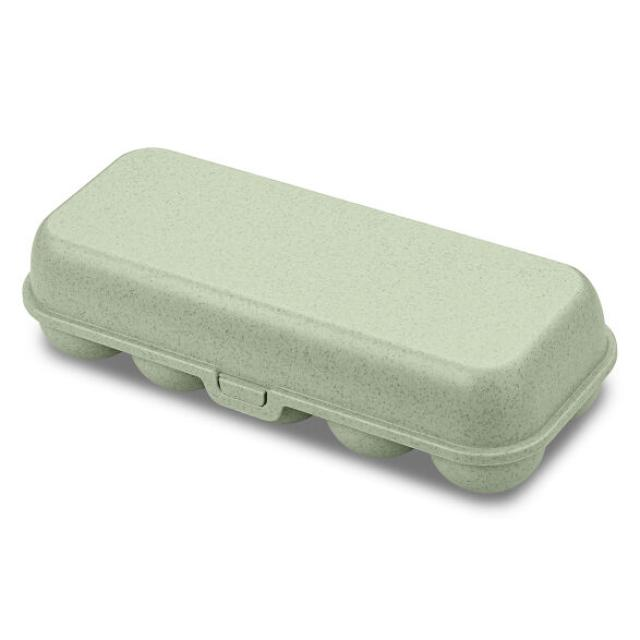egg carton: (17, 145, 620, 493)
